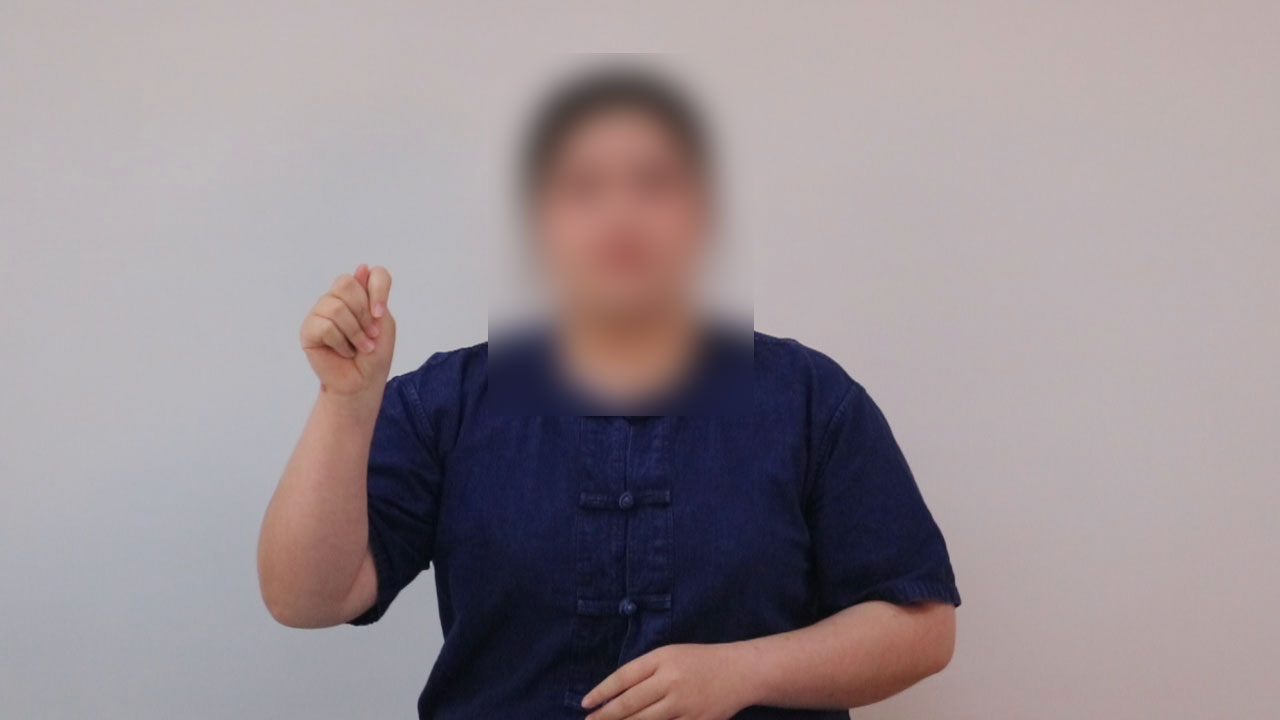tor: (270, 244, 447, 427)
